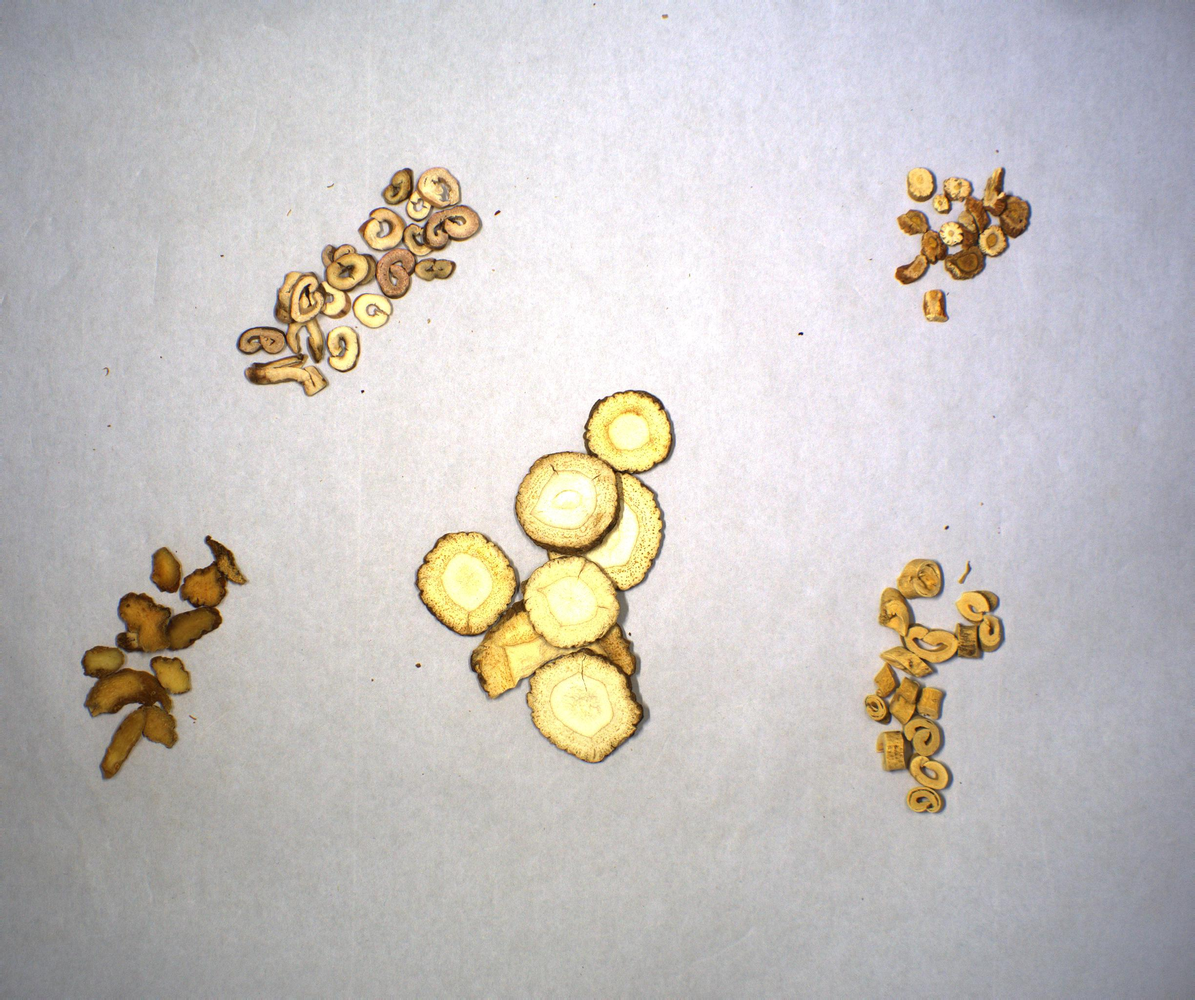baixianpi: (867, 557, 1009, 817)
baizhi: (414, 389, 676, 764)
banlangen: (897, 163, 1034, 325)
mudanpi: (238, 165, 486, 399)
yuzhu: (80, 537, 249, 782)
